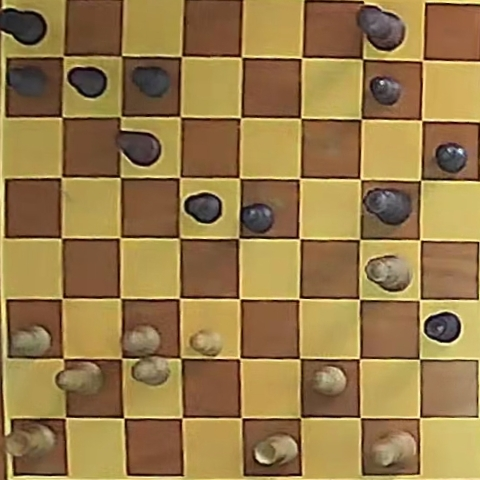black-king: (357, 5, 405, 51)
black-knight: (116, 132, 160, 167)
black-pawn: (7, 65, 48, 98), (67, 66, 107, 99), (131, 66, 170, 98), (184, 193, 223, 224), (241, 203, 274, 233), (435, 143, 468, 173), (370, 76, 402, 105)
black-queen: (363, 188, 411, 226)
black-rook: (0, 7, 47, 46), (423, 311, 462, 343)
white-bishop: (57, 361, 104, 395)
white-king: (372, 430, 416, 467)
white-pawn: (11, 325, 51, 357), (131, 355, 170, 386), (122, 324, 161, 355), (311, 366, 347, 396), (190, 329, 222, 356)
white-queen: (365, 255, 411, 291)
white-rook: (6, 422, 57, 460), (253, 433, 298, 466)
